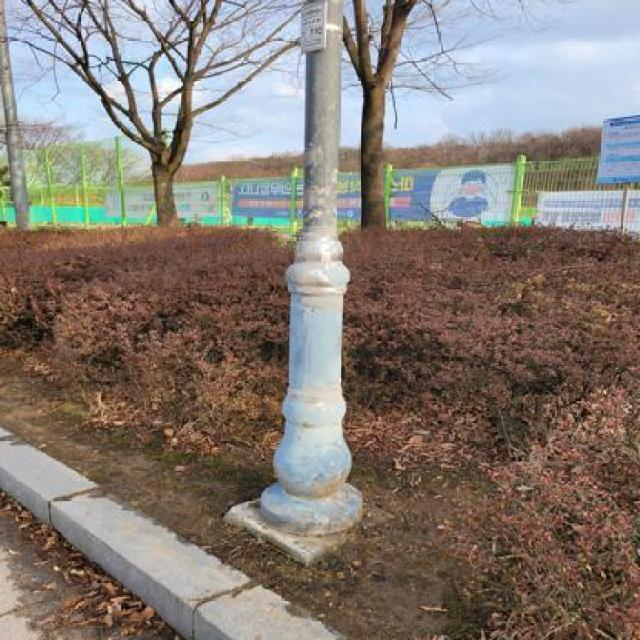pole: (248, 0, 377, 546)
